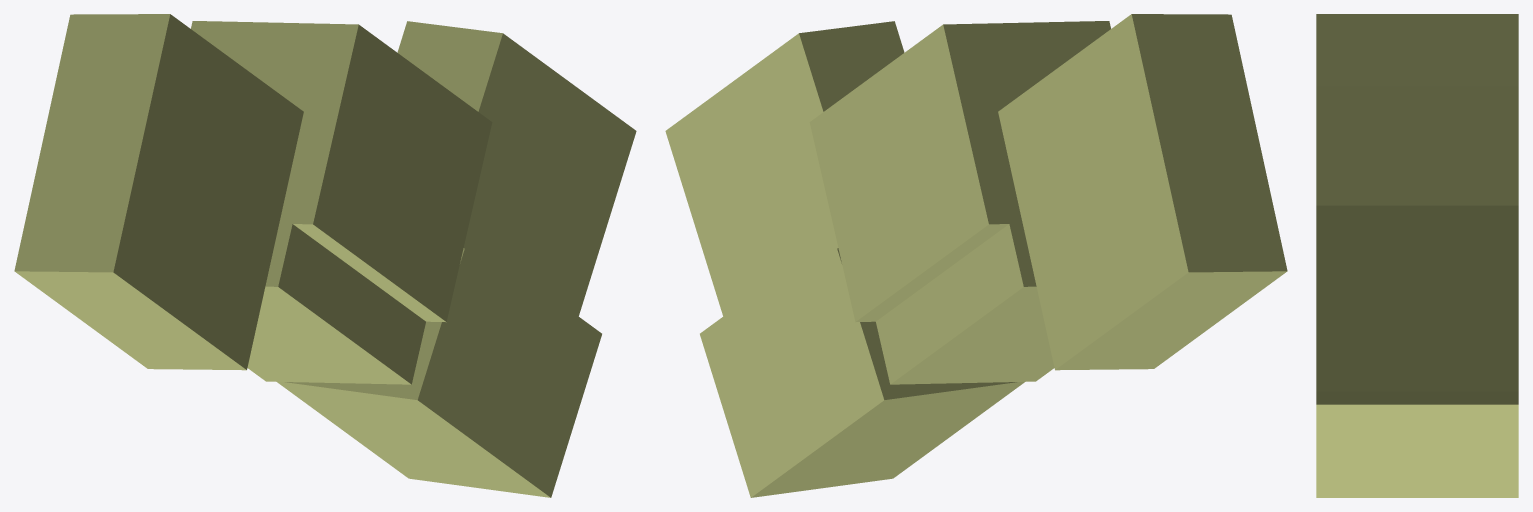
3 views of the same model, side by side, from view 1: azimuth 30°, elevation 25°; view 2: azimuth 150°, elevation 25°; view 3: azimuth 270°, elevation 25° (orthographic). The views are drawn at different scales.
Visible parts, largest first — view 1: 0_1_2_0_1_3_3_0_1_0; view 2: 0_1_2_0_1_3_3_0_1_0; view 3: 0_1_2_0_1_3_3_0_1_0.
Part boxes in pixels (box(x1,y1,x2,y2)): 0_1_2_0_1_3_3_0_1_0: box(14, 14, 636, 497); 0_1_2_0_1_3_3_0_1_0: box(665, 14, 1287, 497); 0_1_2_0_1_3_3_0_1_0: box(1316, 14, 1518, 497).
Size of the model in its own units: 19.01 by 17.49 by 9.
